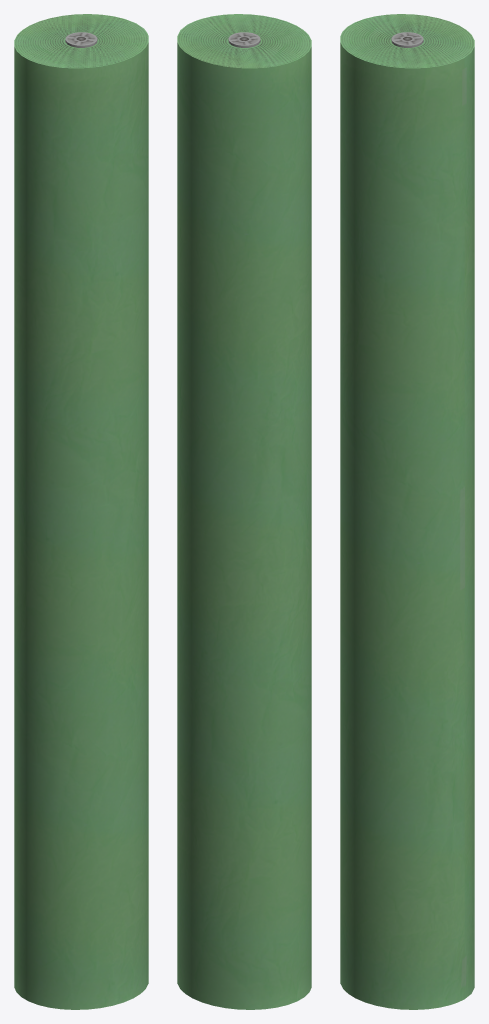
File: SM_Paper_Rolls_01f.fbx
3 views of the same model, side by side, from view 1: azimuth 30°, elevation 25°; view 2: azimuth 150°, elevation 25°; view 3: azimuth 330°, elevation 25° (orthographic).
Visible parts, largest first — view 1: SM_Paper_Rolls_01f_LOD0; view 2: SM_Paper_Rolls_01f_LOD0; view 3: SM_Paper_Rolls_01f_LOD0.
Part boxes in pixels (x1,y1,x2,y2): SM_Paper_Rolls_01f_LOD0: (14, 14, 148, 1009); SM_Paper_Rolls_01f_LOD0: (177, 14, 311, 1009); SM_Paper_Rolls_01f_LOD0: (340, 14, 474, 1009).
Bounding box in the file's own units: 19.74 × 17.95 × 149.
